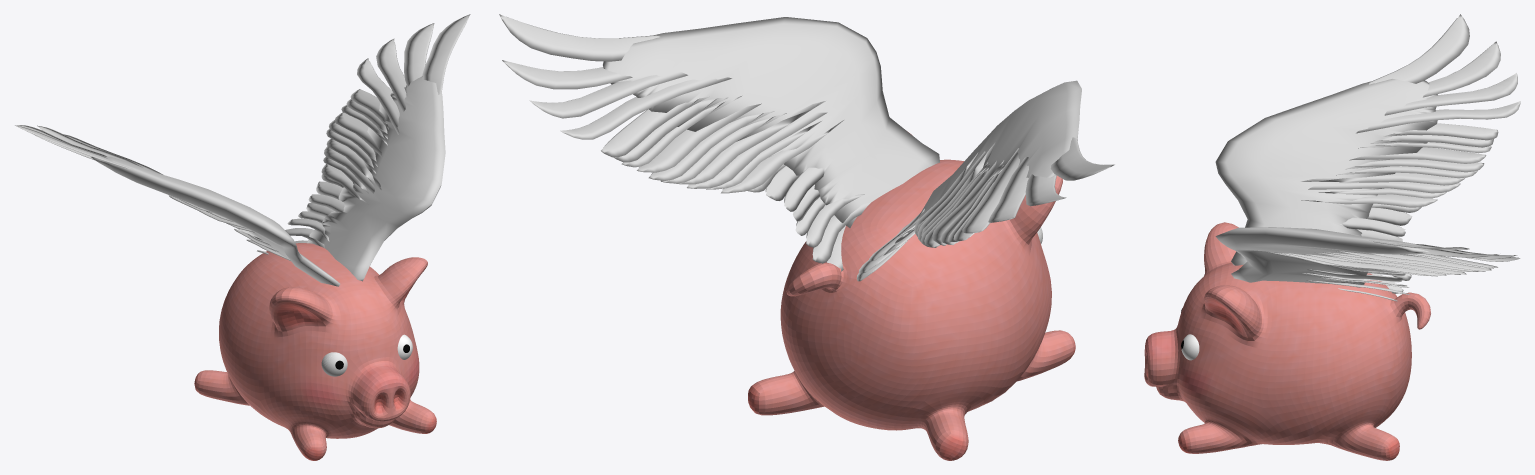
The model's file is cerdito_alas.fbx.
3 views of the same model, side by side, from view 1: azimuth 30°, elevation 25°; view 2: azimuth 150°, elevation 25°; view 3: azimuth 270°, elevation 25° (orthographic). The views are drawn at different scales.
Parts seen in each view (by area): view 1: PolySphere1, angel #2_001, PM3D_Sphere3D1_2; view 2: angel #2_001, PolySphere1; view 3: angel #2_001, PolySphere1.
Part boxes in pixels (x1,y1,x2,y2): PolySphere1: (194,243,436,460); angel #2_001: (15,14,470,286); PM3D_Sphere3D1_2: (321,352,347,376); angel #2_001: (499,14,1114,281); PolySphere1: (748,131,1075,460); angel #2_001: (1215,14,1520,301); PolySphere1: (1144,222,1430,460).
Size of the model in its own units: 260 by 157 by 177.
